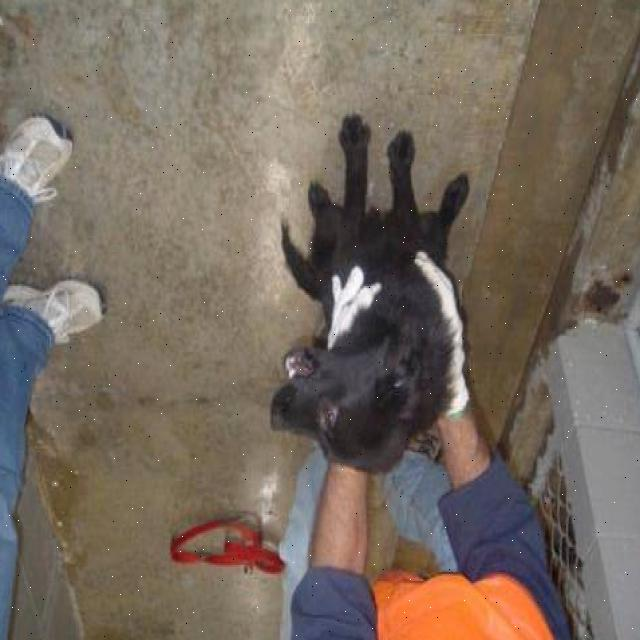Dog: (264, 310, 439, 489)
